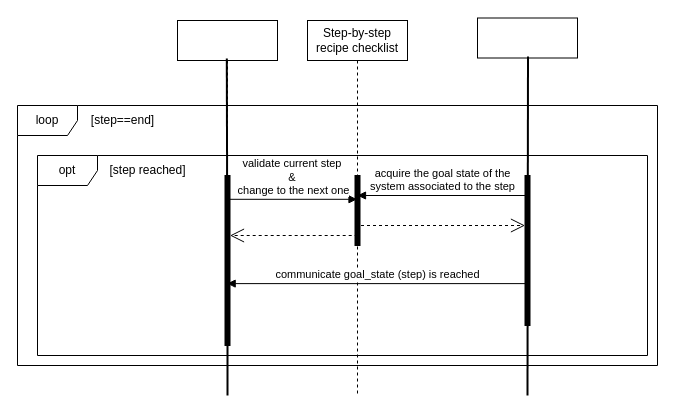
Some shapes in this 675 by 414 pixel diagram are drawn without their labels. The shapes that lost their labels are listed below. From the top down, each one's box as (x1, y1, x2, y2) in pixels, then its label:
(176, 20, 278, 386): Step Tracker
(476, 17, 578, 386): Action Planner
